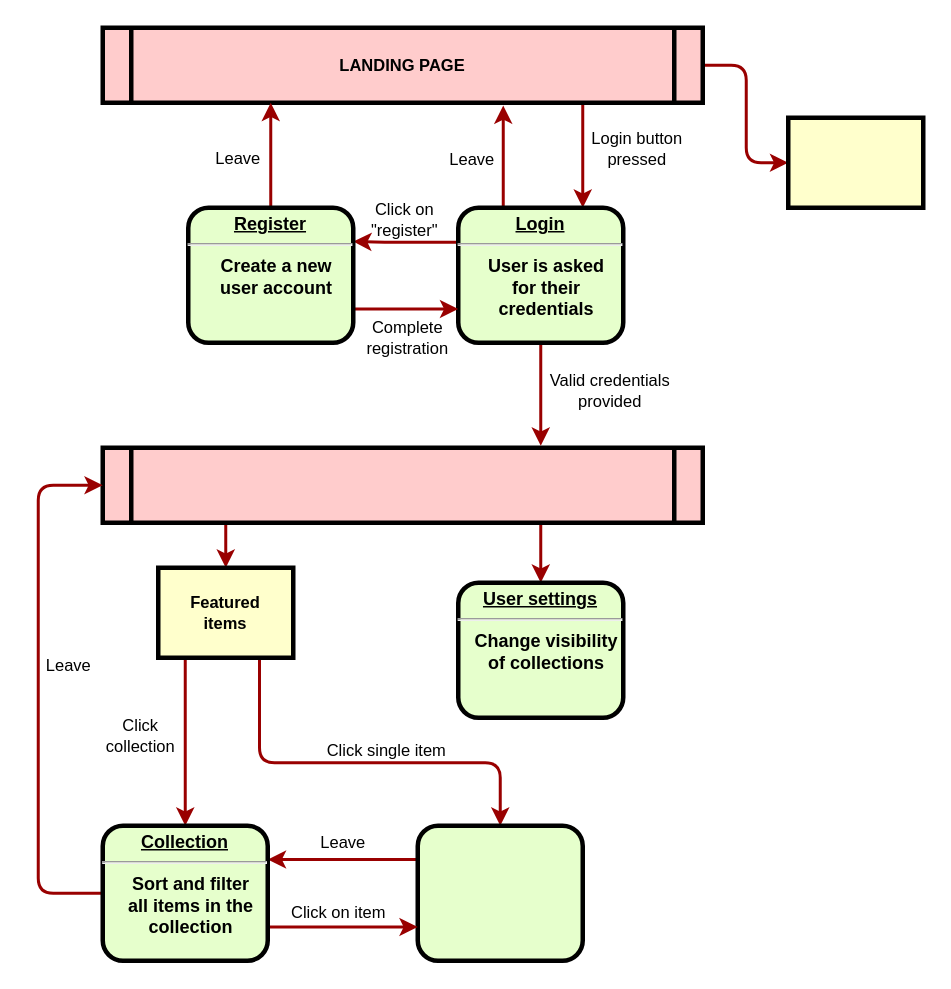
The diagram is 951 pixels wide and 989 high, and some of its shapes have lost their labels. The shapes that lost their labels are listed below. From the top down, each one's centre as x and y in pixels, then its label:
the point at 855,162: Read information about the webapp
the point at 402,484: DASHBOARD
the point at 499,892: Item editor Modify item details
